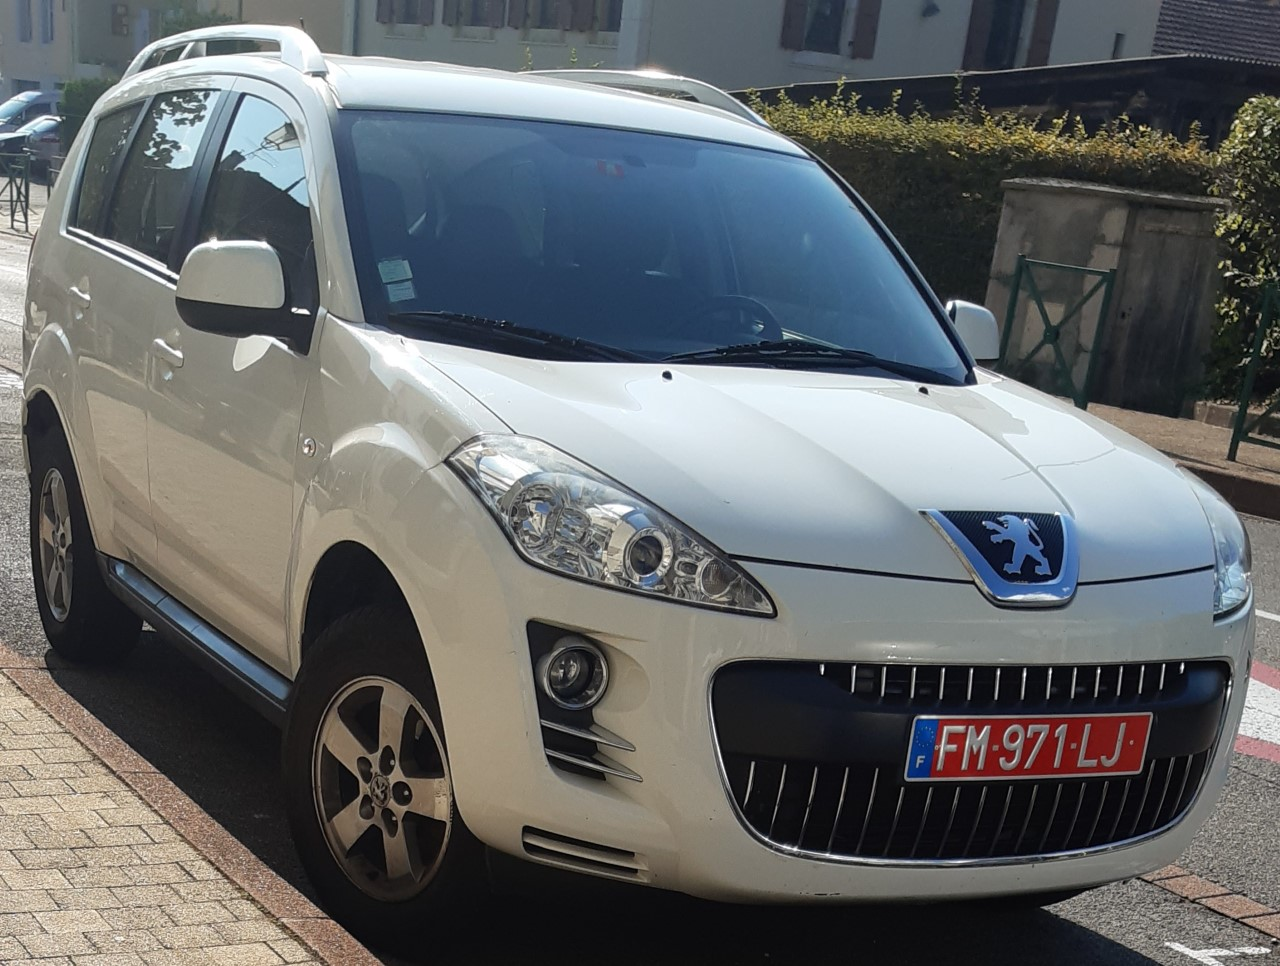licence plate: (898, 709, 1161, 786)
